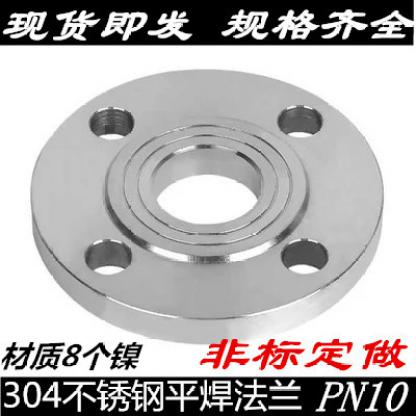FOD: (32, 62, 390, 352)
